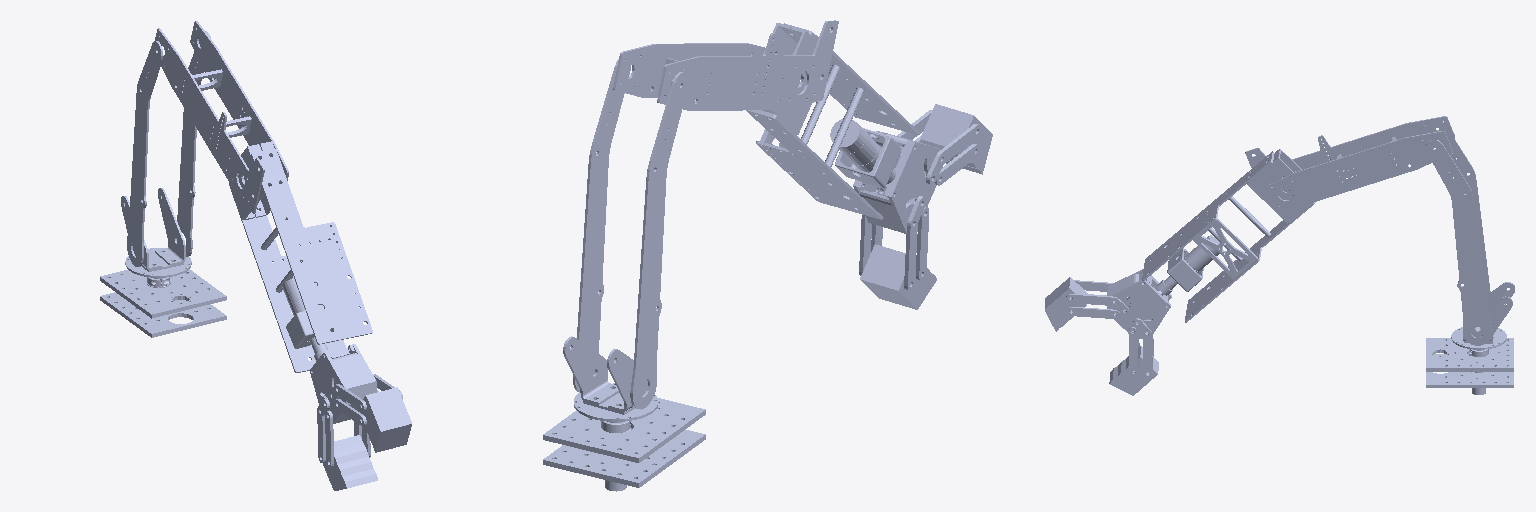
URDF robot description (urdf_template_4):
<?xml version="1.0" encoding="utf-8"?>
<!-- This URDF was automatically created by SolidWorks to URDF Exporter! Originally created by [author] ([email redacted]) 
     Commit Version: 1.6.0-4-g7f85cfe  Build Version: 1.6.7995.38578
     For more information, please see http://wiki.ros.org/sw_urdf_exporter -->
<robot
  name="urdf_template_4">
  <link
    name="base_link">
    <!--inertial>
      <origin
        xyz="0.0635 0.00077848 0.09276"
        rpy="0 1.5707 0" />
      <mass
        value="0.32452" />
      <inertia
        ixx="0.00053084"
        ixy="-1.7977E-10"
        ixz="-2.4642E-10"
        iyy="0.00076331"
        iyz="2.0437E-06"
        izz="0.00041697" />
    </inertial-->
    <visual>
      <origin
        xyz="0 0.125 0"
        rpy="1.570796 0 0" />
      <geometry>
        <mesh
          filename="package://urdf_template_4/meshes/base_link.STL" />
      </geometry>
      <material
        name="">
        <color
          rgba="0.79216 0.81961 0.93333 1" />
      </material>
    </visual>
    <collision>
      <origin
        xyz="0 0.1 0"
        rpy="1.570796 0 0" />
      <geometry>
        <mesh
          filename="package://urdf_template_4/meshes/base_link_collision.STL" />
      </geometry>
    </collision>
  </link>
  <link
    name="link_1">
    <!--inertial>
      <origin
        xyz="-0.00030072 -0.0044002 -0.0022207"
        rpy="0 0 0" />
      <mass
        value="0.21162" />
      <inertia
        ixx="9.3367E-05"
        ixy="1.4583E-07"
        ixz="8.1923E-07"
        iyy="9.5316E-05"
        iyz="1.1897E-05"
        izz="0.00012608" />
    </inertial-->
    <visual>
      <origin
        xyz="0 0 0"
        rpy="0 0 0" />
      <geometry>
        <mesh
          filename="package://urdf_template_4/meshes/link_1.STL" />
      </geometry>
      <material
        name="">
        <color
          rgba="0.79216 0.81961 0.93333 1" />
      </material>
    </visual>
    <collision>
      <origin
        xyz="0 0 0"
        rpy="0 0 0" />
      <geometry>
        <mesh
          filename="package://urdf_template_4/meshes/link_1_collision.STL" />
      </geometry>
    </collision>
  </link>
  <joint
    name="Joint_1"
    type="revolute">
    <origin
      xyz="0.065007 0.065193 0.063823"
      rpy="0 0 -3.1416" />
    <parent
      link="base_link" />
    <child
      link="link_1" />
    <axis
      xyz="0 0 1" />
    <limit
      lower="-6.283"
      upper="6.283"
      effort="0"
      velocity="0" />
  </joint>
  <link
    name="link_2">
    <!--inertial>
      <origin
        xyz="-0.00028251 0.018164 0.14877"
        rpy="0 0 0" />
      <mass
        value="1.0805" />
      <inertia
        ixx="0.0037279"
        ixy="-4.2982E-05"
        ixz="-4.5292E-05"
        iyy="0.0031318"
        iyz="-0.000667"
        izz="0.00090046" />
    </inertial-->
    <visual>
      <origin
        xyz="0 0 0"
        rpy="0 0 0" />
      <geometry>
        <mesh
          filename="package://urdf_template_4/meshes/link_2.STL" />
      </geometry>
      <material
        name="">
        <color
          rgba="0.79216 0.81961 0.93333 1" />
      </material>
    </visual>
    <collision>
      <origin
        xyz="0 0 0"
        rpy="0 0 0" />
      <geometry>
        <mesh
          filename="package://urdf_template_4/meshes/link_2_collision.STL" />
      </geometry>
    </collision>
  </link>
  <joint
    name="Joint_2"
    type="continuous">
    <origin
      xyz="0 0 0.028575"
      rpy="0 0 0" />
    <parent
      link="link_1" />
    <child
      link="link_2" />
    <axis
      xyz="-0.99764 0.068696 0" />
    <limit
      lower="0"
      upper="0"
      effort="0"
      velocity="0" />
  </joint>
  <link
    name="link_3">
    <!--inertial>
      <origin
        xyz="0.036938 0.18044 -0.058006"
        rpy="0 0 0" />
      <mass
        value="0.54423" />
      <inertia
        ixx="0.0014787"
        ixy="-8.0191E-05"
        ixz="2.5095E-05"
        iyy="0.00031741"
        iyz="0.00038446"
        izz="0.0013023" />
    </inertial-->
    <visual>
      <origin
        xyz="0 0 0"
        rpy="0 0 0" />
      <geometry>
        <mesh
          filename="package://urdf_template_4/meshes/link_3.STL" />
      </geometry>
      <material
        name="">
        <color
          rgba="0.79216 0.81961 0.93333 1" />
      </material>
    </visual>
    <collision>
      <origin
        xyz="0 0 0"
        rpy="0 0 0" />
      <geometry>
        <mesh
          filename="package://urdf_template_4/meshes/link_3_collision.STL" />
      </geometry>
    </collision>
  </link>
  <joint
    name="Joint_3"
    type="continuous">
    <origin
      xyz="0.0035291 0.074546 0.35016"
      rpy="0 0 0" />
    <parent
      link="link_2" />
    <child
      link="link_3" />
    <axis
      xyz="0.99764 -0.068696 0" />
    <limit
      lower="0"
      upper="0"
      effort="0"
      velocity="0" />
  </joint>
  <link
    name="link_4">
    <!--inertial>
      <origin
        xyz="-0.0035152 0.17494 -0.16932"
        rpy="0 0 0" />
      <mass
        value="1.7659" />
      <inertia
        ixx="0.0019352"
        ixy="3.3813E-05"
        ixz="-3.3468E-05"
        iyy="0.0013153"
        iyz="0.00058045"
        izz="0.0013665" />
    </inertial-->
    <visual>
      <origin
        xyz="0 0 0"
        rpy="0 0 0" />
      <geometry>
        <mesh
          filename="package://urdf_template_4/meshes/link_4.STL" />
      </geometry>
      <material
        name="">
        <color
          rgba="0.79216 0.81961 0.93333 1" />
      </material>
    </visual>
    <collision>
      <origin
        xyz="0 0 0"
        rpy="0 0 0" />
      <geometry>
        <mesh
          filename="package://urdf_template_4/meshes/link_4_collision.STL" />
      </geometry>
    </collision>
  </link>
  <joint
    name="Joint_4"
    type="continuous">
    <origin
      xyz="0.025671 0.26163 -0.098739"
      rpy="0 0 0" />
    <parent
      link="link_3" />
    <child
      link="link_4" />
    <axis
      xyz="0.99764 -0.068696 0" />
    <limit
      lower="0"
      upper="0"
      effort="0"
      velocity="0" />
  </joint>
</robot>

--- Render facts (derived) ---
Views: 3 orthographic renders of the robot side by side, from view 1: azimuth 30°, elevation 25°; view 2: azimuth 150°, elevation 25°; view 3: azimuth 270°, elevation 25°.
Model urdf_template_4 with 5 links and 4 joints (1 revolute, 3 continuous), rooted at base_link, posed every joint at zero.
Links seen in each view (by area): view 1: link_4, link_3, base_link, link_2, link_1; view 2: link_4, link_2, link_3, base_link, link_1; view 3: link_4, link_3, link_2, base_link, link_1.
Boxes of the visible links, x1=… form: link_4: x1=229, y1=141, x2=411, y2=490; link_3: x1=155, y1=21, x2=288, y2=213; base_link: x1=100, y1=269, x2=226, y2=337; link_2: x1=127, y1=31, x2=210, y2=266; link_1: x1=121, y1=188, x2=191, y2=287; link_4: x1=746, y1=23, x2=992, y2=309; link_2: x1=573, y1=59, x2=688, y2=409; link_3: x1=613, y1=20, x2=838, y2=110; base_link: x1=543, y1=398, x2=705, y2=487; link_1: x1=563, y1=336, x2=657, y2=491; link_4: x1=1045, y1=149, x2=1315, y2=395; link_3: x1=1245, y1=116, x2=1454, y2=209; link_2: x1=1426, y1=127, x2=1491, y2=345; base_link: x1=1426, y1=338, x2=1513, y2=387; link_1: x1=1451, y1=282, x2=1514, y2=394.
Bounding box of the posed robot: 0.1294 × 0.8211 × 0.524 m (x, y, z).
5 mesh visuals loaded from 5 distinct referenced files (5 binary STL).